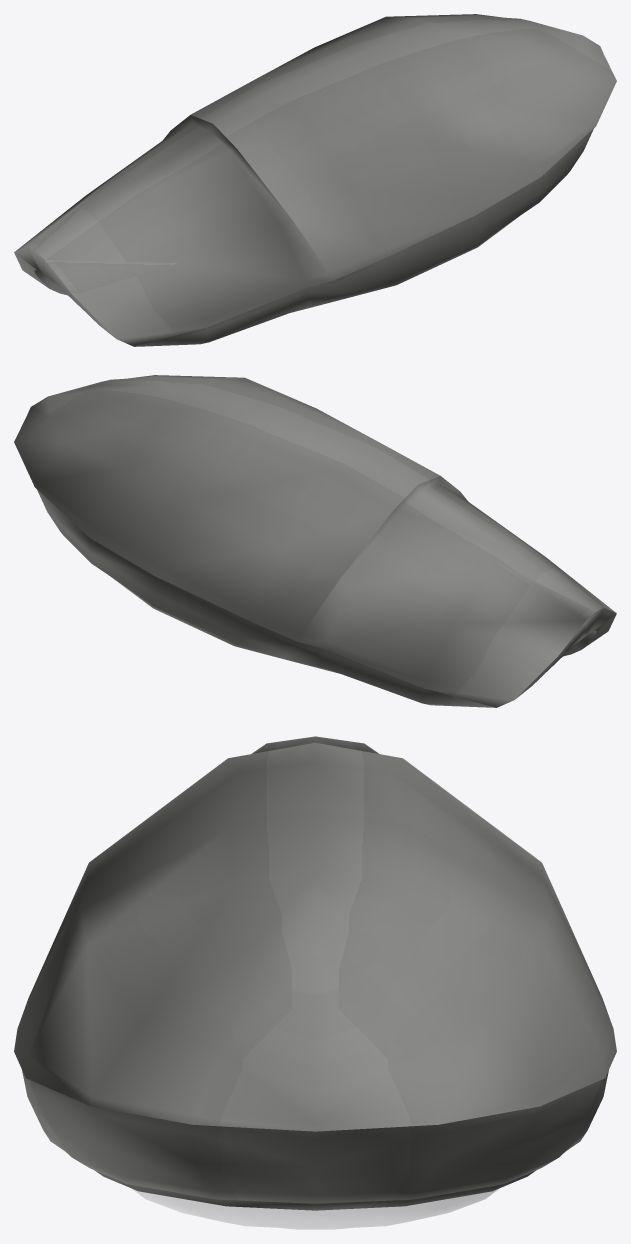
Rendered from ARC_80.glb.
The picture shows the model from 3 angles, top to bottom: view 1: azimuth 30°, elevation 25°; view 2: azimuth 150°, elevation 25°; view 3: azimuth 270°, elevation 25°; orthographic projection. The views are drawn at different scales.
Parts seen in each view (by area): view 1: ARC_80; view 2: ARC_80; view 3: ARC_80, Glas.
Part boxes in pixels (x1=…): ARC_80: x1=14, y1=14, x2=616, y2=346; ARC_80: x1=14, y1=375, x2=616, y2=707; ARC_80: x1=14, y1=736, x2=616, y2=1210; Glas: x1=132, y1=1189, x2=498, y2=1229.
Size of the model in its own units: 0.6699 by 0.2505 by 0.3308.
3 materials, 2 textured.
